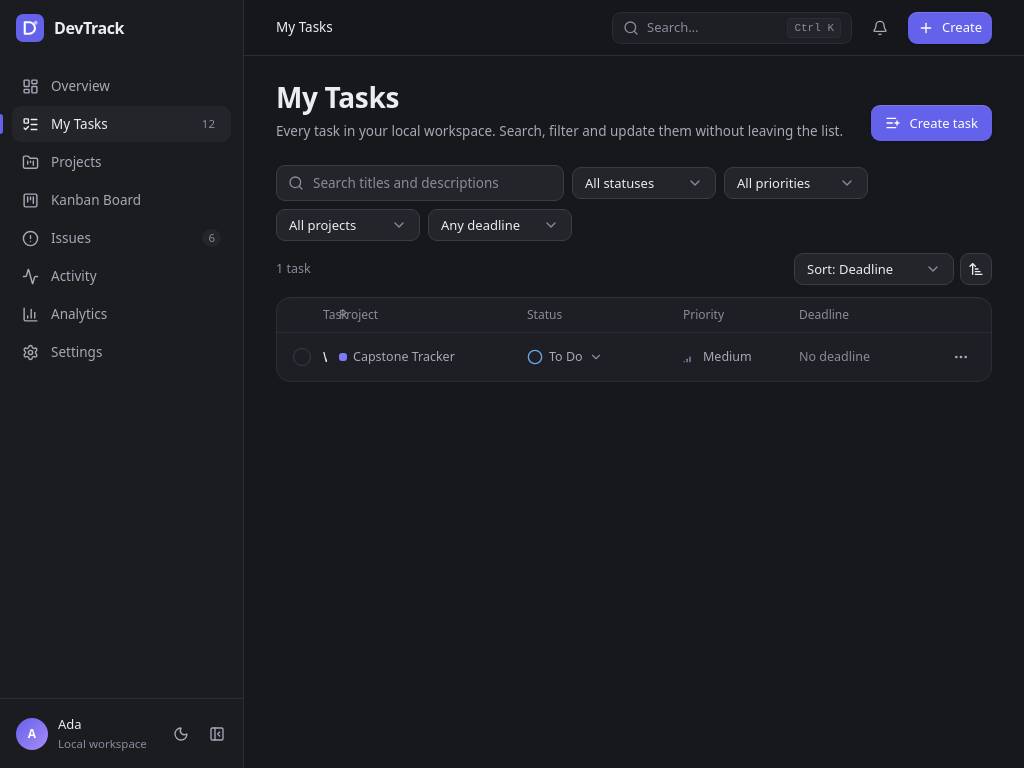
Test: My Tasks › updates a task status and confirms after the server responds
Click the button with aria-label "Status: To Do. Change status of Write docs".
click(565, 357)  # box [519,343,611,371]
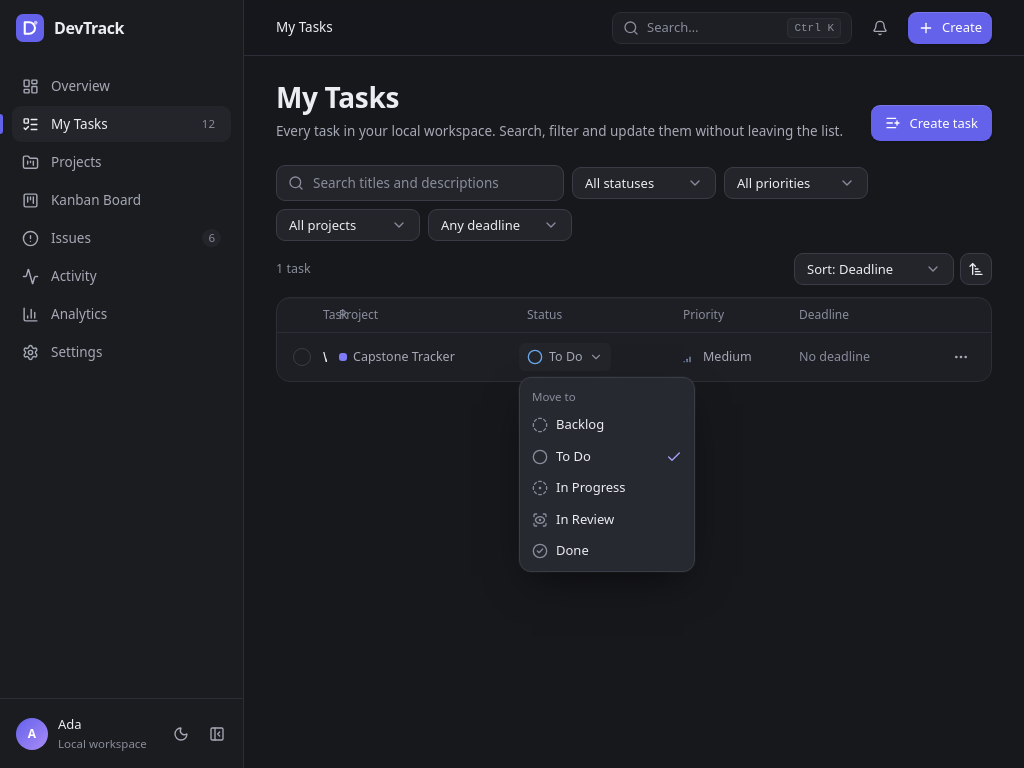
Click the menu item "In Progress".
click(579, 487)  # box [532,478,626,496]
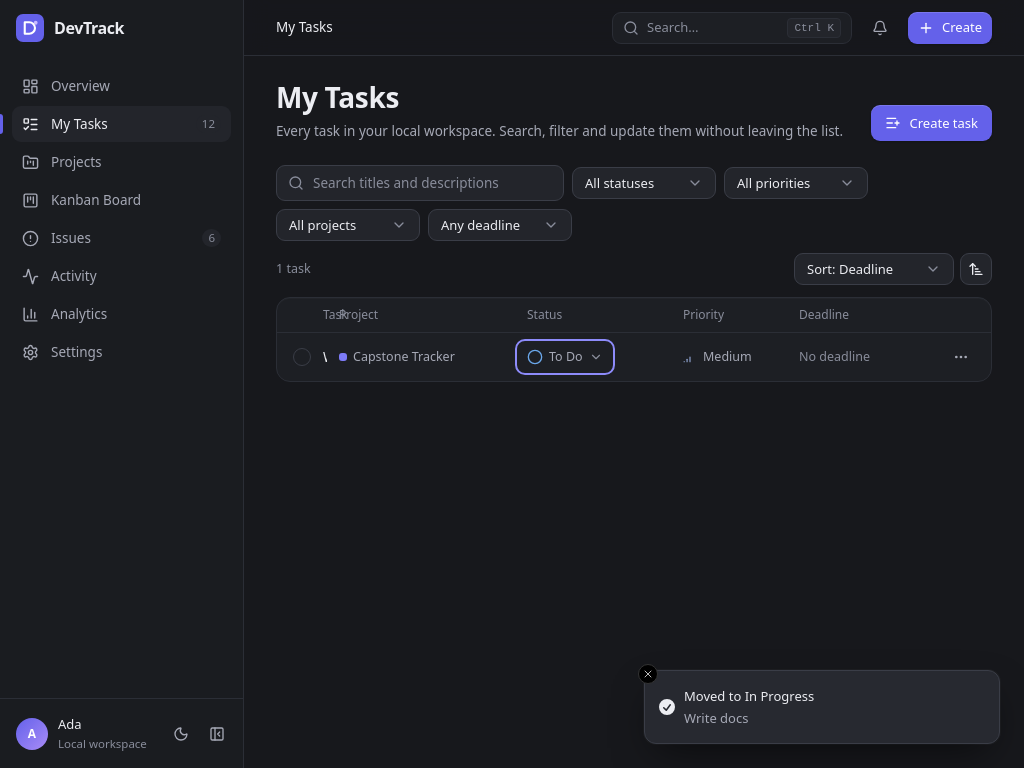
Check: the text "Moved to In Progress" is shown, box [684,687,814,707]
